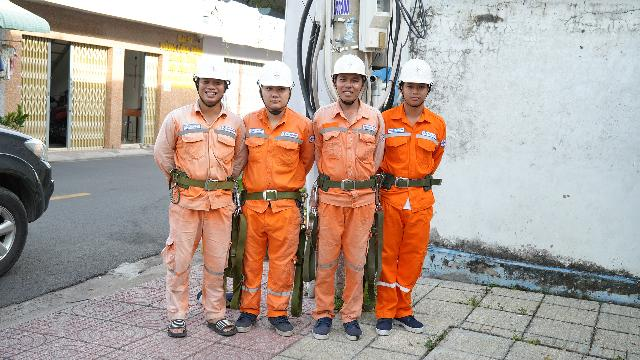harness: (164, 162, 247, 201), (371, 162, 439, 197), (237, 181, 306, 209), (319, 172, 380, 195)
helmet: (241, 57, 305, 102), (384, 50, 438, 93), (197, 60, 242, 93), (329, 54, 372, 80)
shoes: (263, 306, 299, 338), (227, 302, 260, 335), (397, 301, 426, 335), (305, 307, 332, 341), (338, 315, 364, 343), (372, 312, 399, 338)
